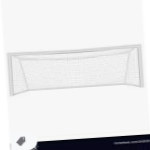goals: (6, 43, 146, 97)
